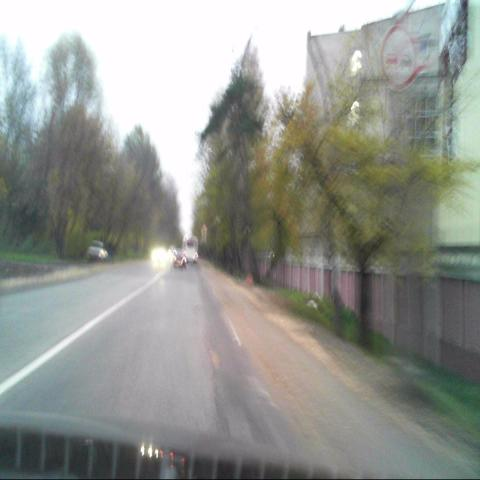3_20: (382, 27, 417, 91)
